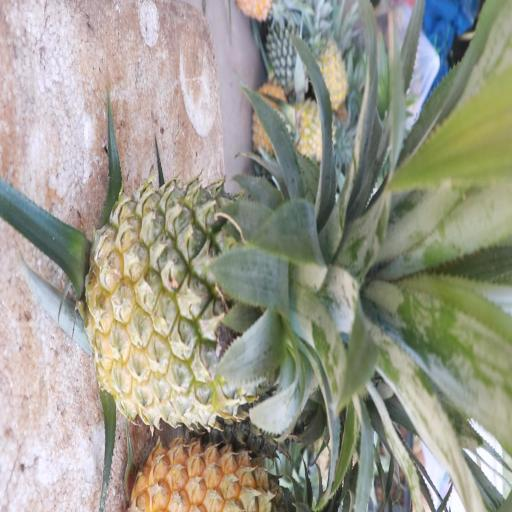------------------------------: (82, 182, 360, 424)
Pineapple - v8 v1: (308, 15, 351, 105)
